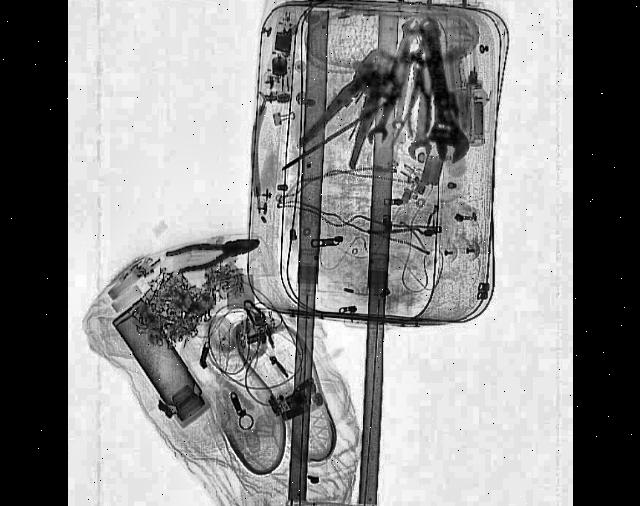Pliers: (298, 22, 402, 188), (166, 227, 262, 283)
Wrench: (412, 17, 472, 169), (367, 57, 415, 153)
